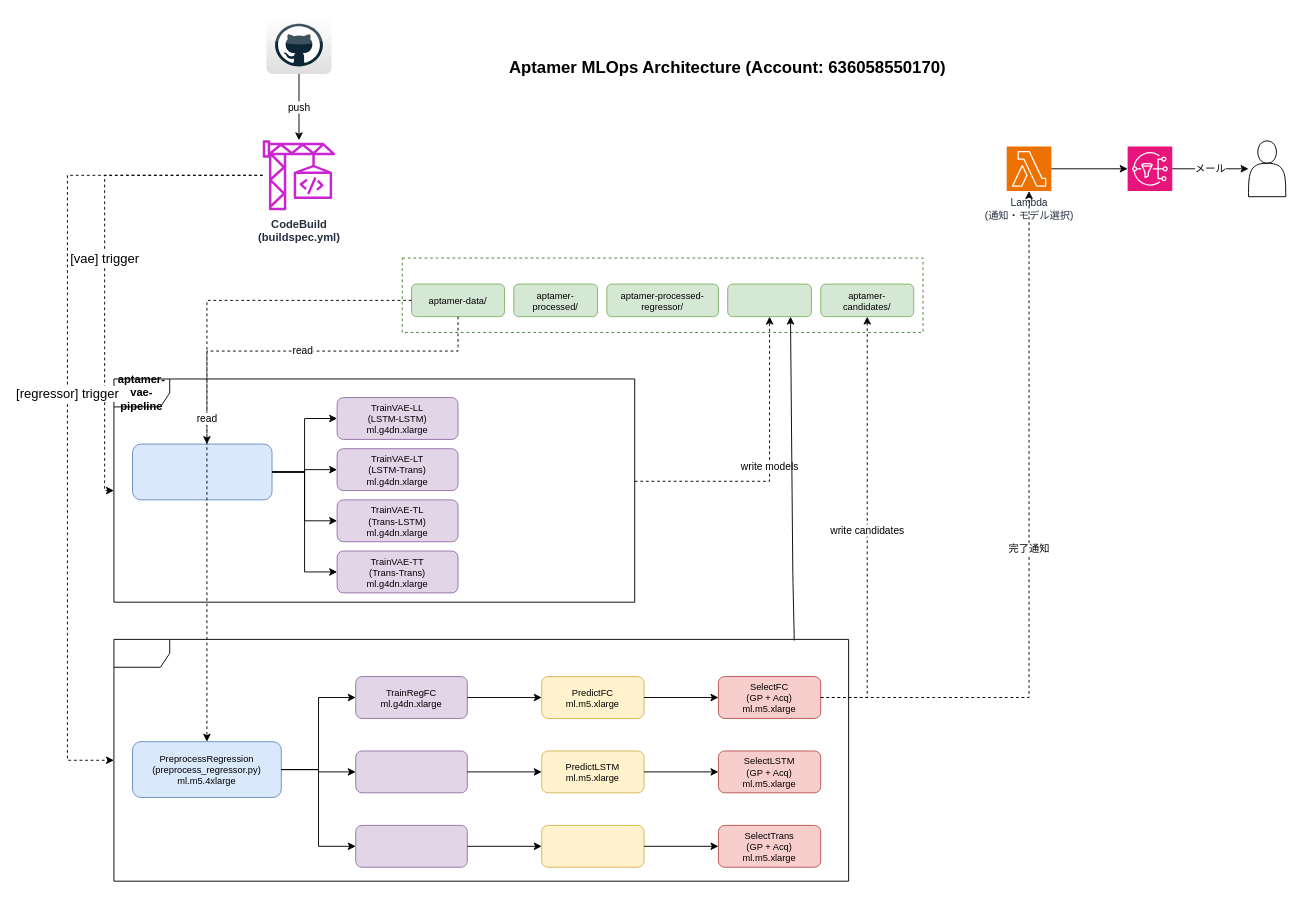
The diagram is 1302 pixels wide and 897 high, and some of its shapes have lost their labels. The box of each missing label's shape, as (x1, y1, x2, y2) in pixels:
aptamer- models/: (727, 283, 811, 317)
aptamer-regressor-pipeline: (113, 638, 849, 881)
GitHub: (266, 15, 332, 74)
PredictTrans ml.m5.xlarge: (541, 824, 644, 867)
PreprocessAptamer (preprocess_vae.py) ml.m5.4xlarge: (132, 443, 272, 500)
S3: aptamer-mlops-636058550170: (401, 257, 923, 332)
SNS: (1127, 146, 1172, 191)
TrainRegLSTM ml.g4dn.xlarge: (355, 750, 467, 793)
TrainRegTrans ml.g4dn.xlarge: (355, 824, 467, 867)
